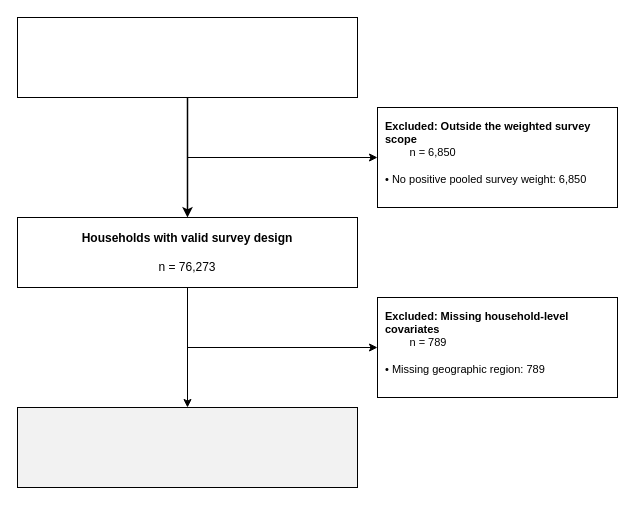
Some shapes in this 635 by 505 pixel diagram are drawn without their labels. The box of each missing label's shape, as (x1, y1, x2, y2) in pixels:
Final analytic sample n = 75,484 households: (16, 406, 358, 488)
Total unweighted households from MEPS, 2018–2024 n = 83,123: (16, 16, 358, 98)
